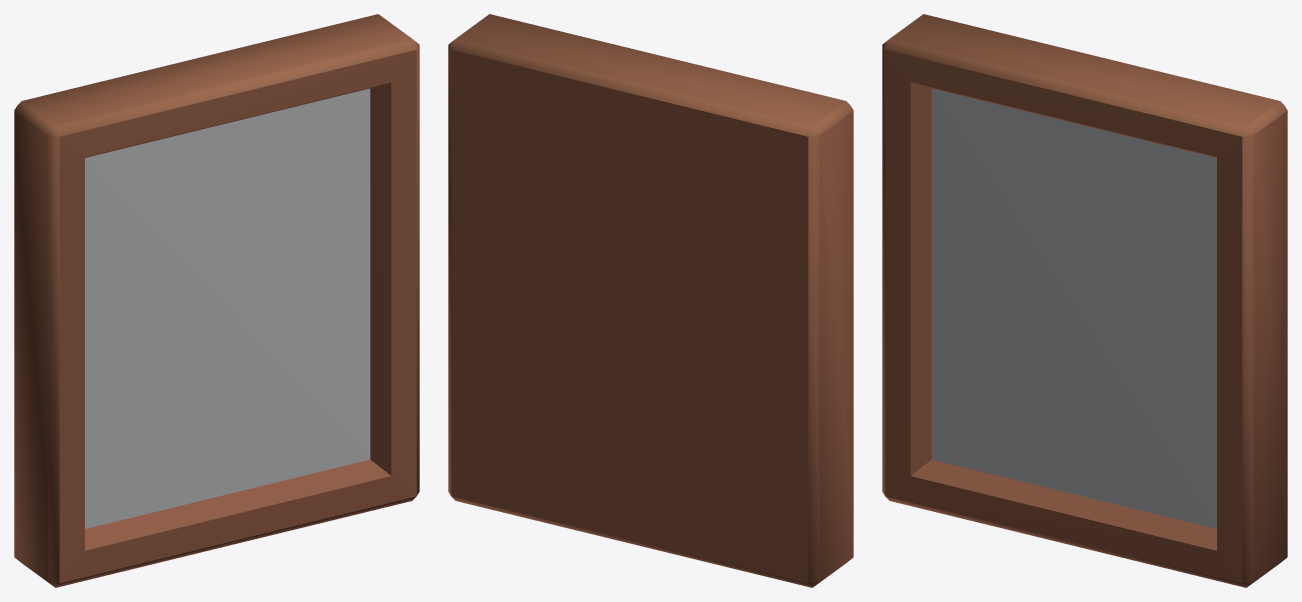
The model's file is kk_furniture_pictureframe_large_A.glb.
The picture shows the model from 3 angles, left to right: view 1: azimuth 30°, elevation 25°; view 2: azimuth 150°, elevation 25°; view 3: azimuth 330°, elevation 25°; orthographic projection.
Visible parts, largest first — view 1: kk_furniture_pictureframe_large_A; view 2: kk_furniture_pictureframe_large_A; view 3: kk_furniture_pictureframe_large_A.
Part boxes in pixels (x1,y1,x2,y2): kk_furniture_pictureframe_large_A: [14, 14, 419, 587]; kk_furniture_pictureframe_large_A: [448, 14, 853, 587]; kk_furniture_pictureframe_large_A: [882, 14, 1287, 587].
Size of the model in its own units: 1.01 by 1.2 by 0.2.
